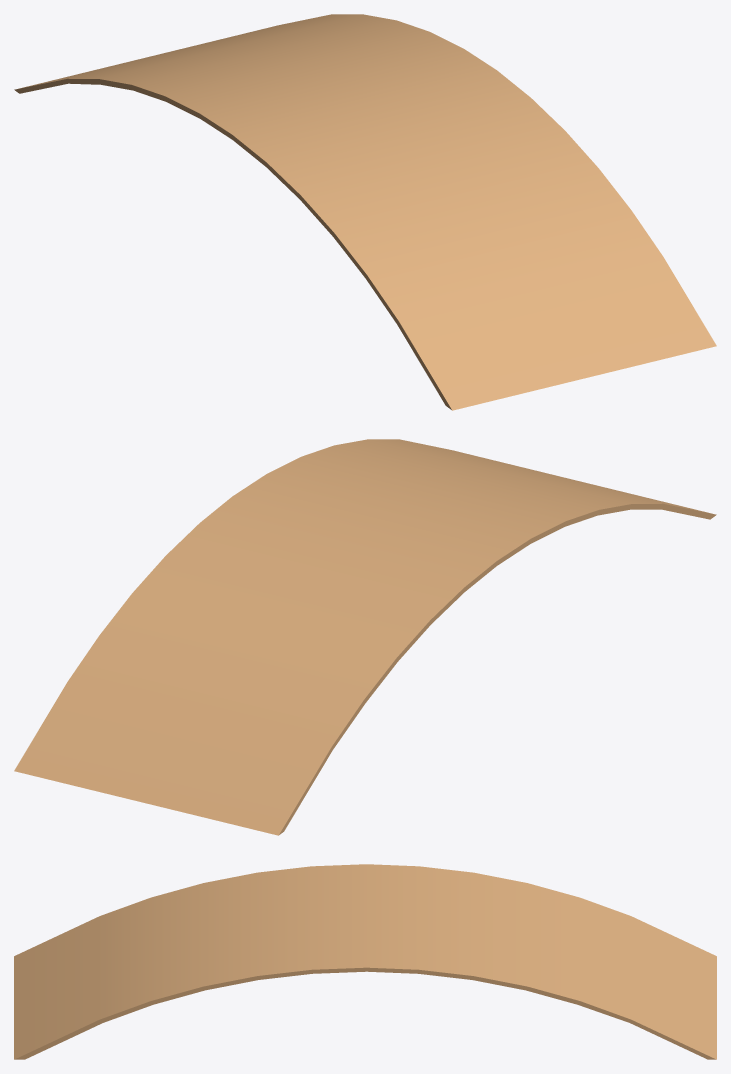
Rendered from RoofGlass02.fbx.
3 views of the same model, one above another, from view 1: azimuth 30°, elevation 25°; view 2: azimuth 150°, elevation 25°; view 3: azimuth 270°, elevation 25° (orthographic). The views are drawn at different scales.
Visible parts, largest first — view 1: Glass02; view 2: Glass02; view 3: Glass02.
Boxes of the visible parts, left/top/right/bottom form: Glass02: left=14, top=14, right=716, bottom=410; Glass02: left=14, top=439, right=716, bottom=835; Glass02: left=14, top=864, right=716, bottom=1059.
Size of the model in its own units: 452 by 187 by 1297.
